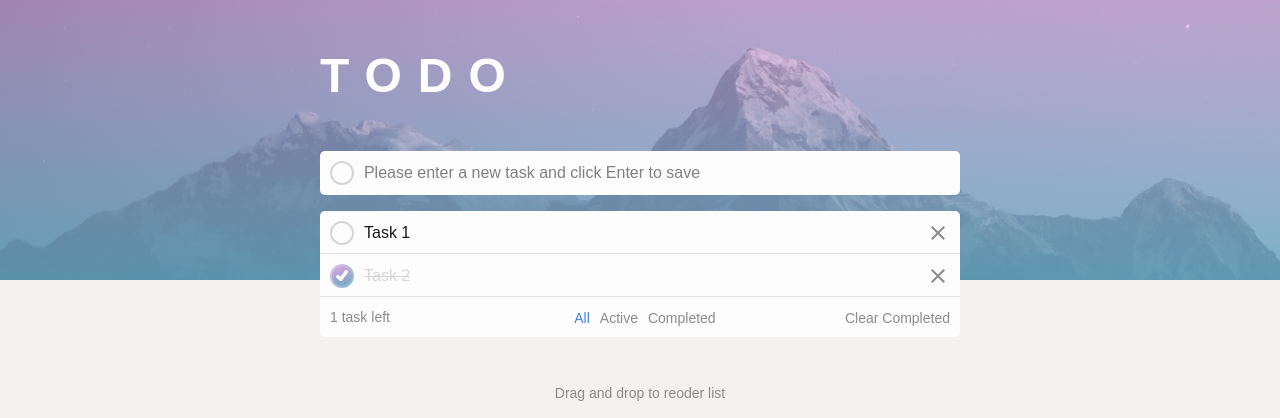
to-do app › can delete a task
Click the 1st icon with test id "ClearIcon": {"x": 938, "y": 233} [926,221,950,245]
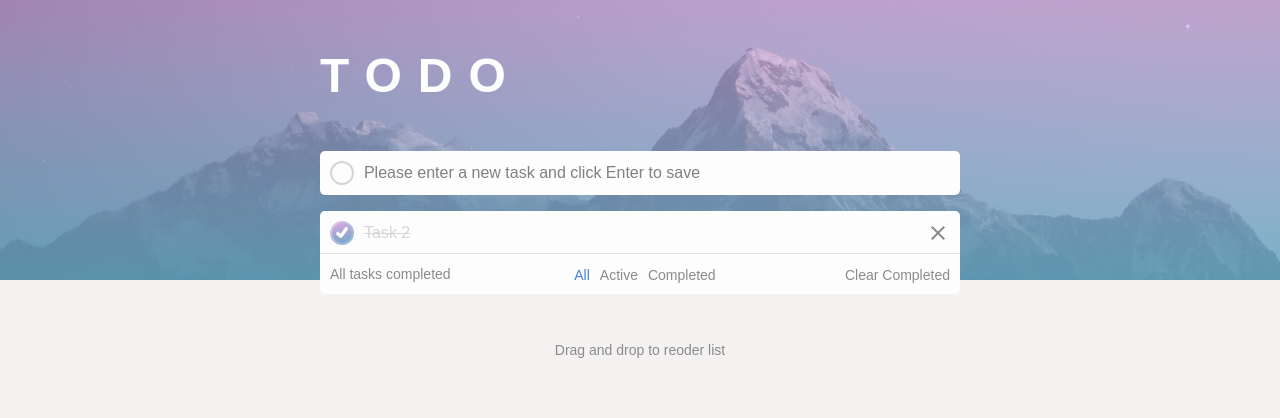
Result: the number of labels with test id "task" is 1 at [364,224,410,242]
